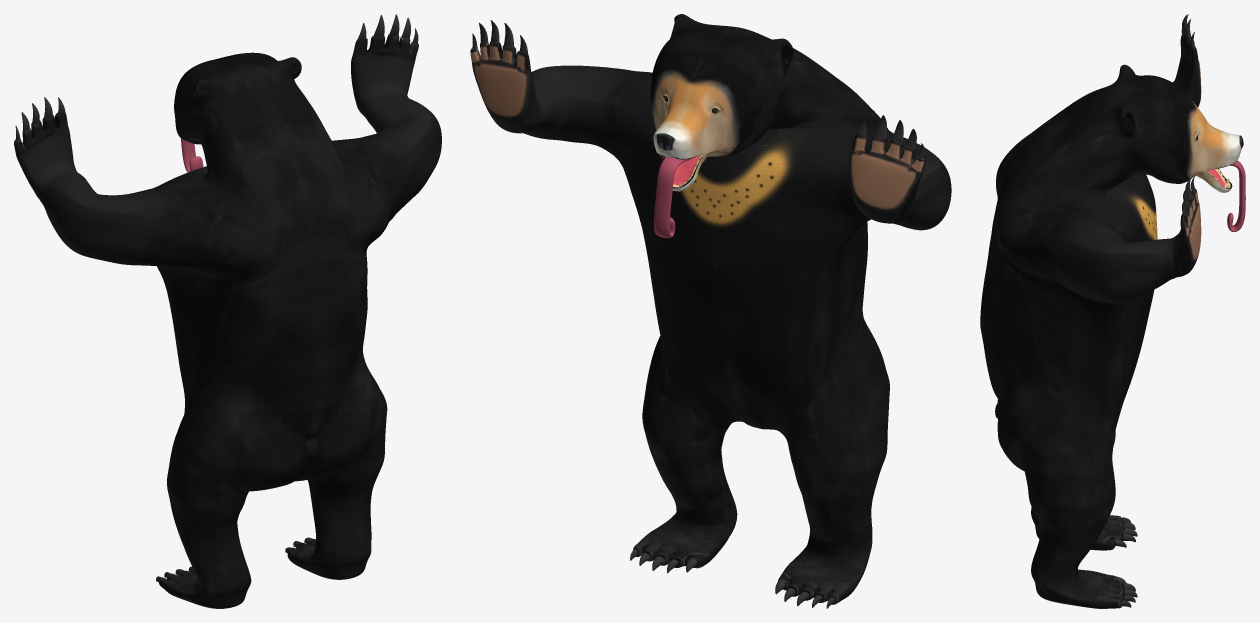
The model's file is Skripsi_Beruang Madu (Berdiri).fbx.
The picture shows the model from 3 angles, left to right: view 1: azimuth 30°, elevation 25°; view 2: azimuth 150°, elevation 25°; view 3: azimuth 270°, elevation 25°; orthographic projection. The views are drawn at different scales.
Visible parts, largest first — view 1: Bear; view 2: Bear, Tongue; view 3: Bear, Tongue.
Part boxes in pixels (x1,y1,x2,y2): Bear: (14, 14, 441, 608); Bear: (470, 14, 951, 608); Tongue: (654, 157, 692, 238); Bear: (980, 14, 1243, 608); Tongue: (1227, 160, 1245, 231).
Bounding box in the file's own units: 948 × 1116 × 556.
Materials: 5 (3 with a texture image).
